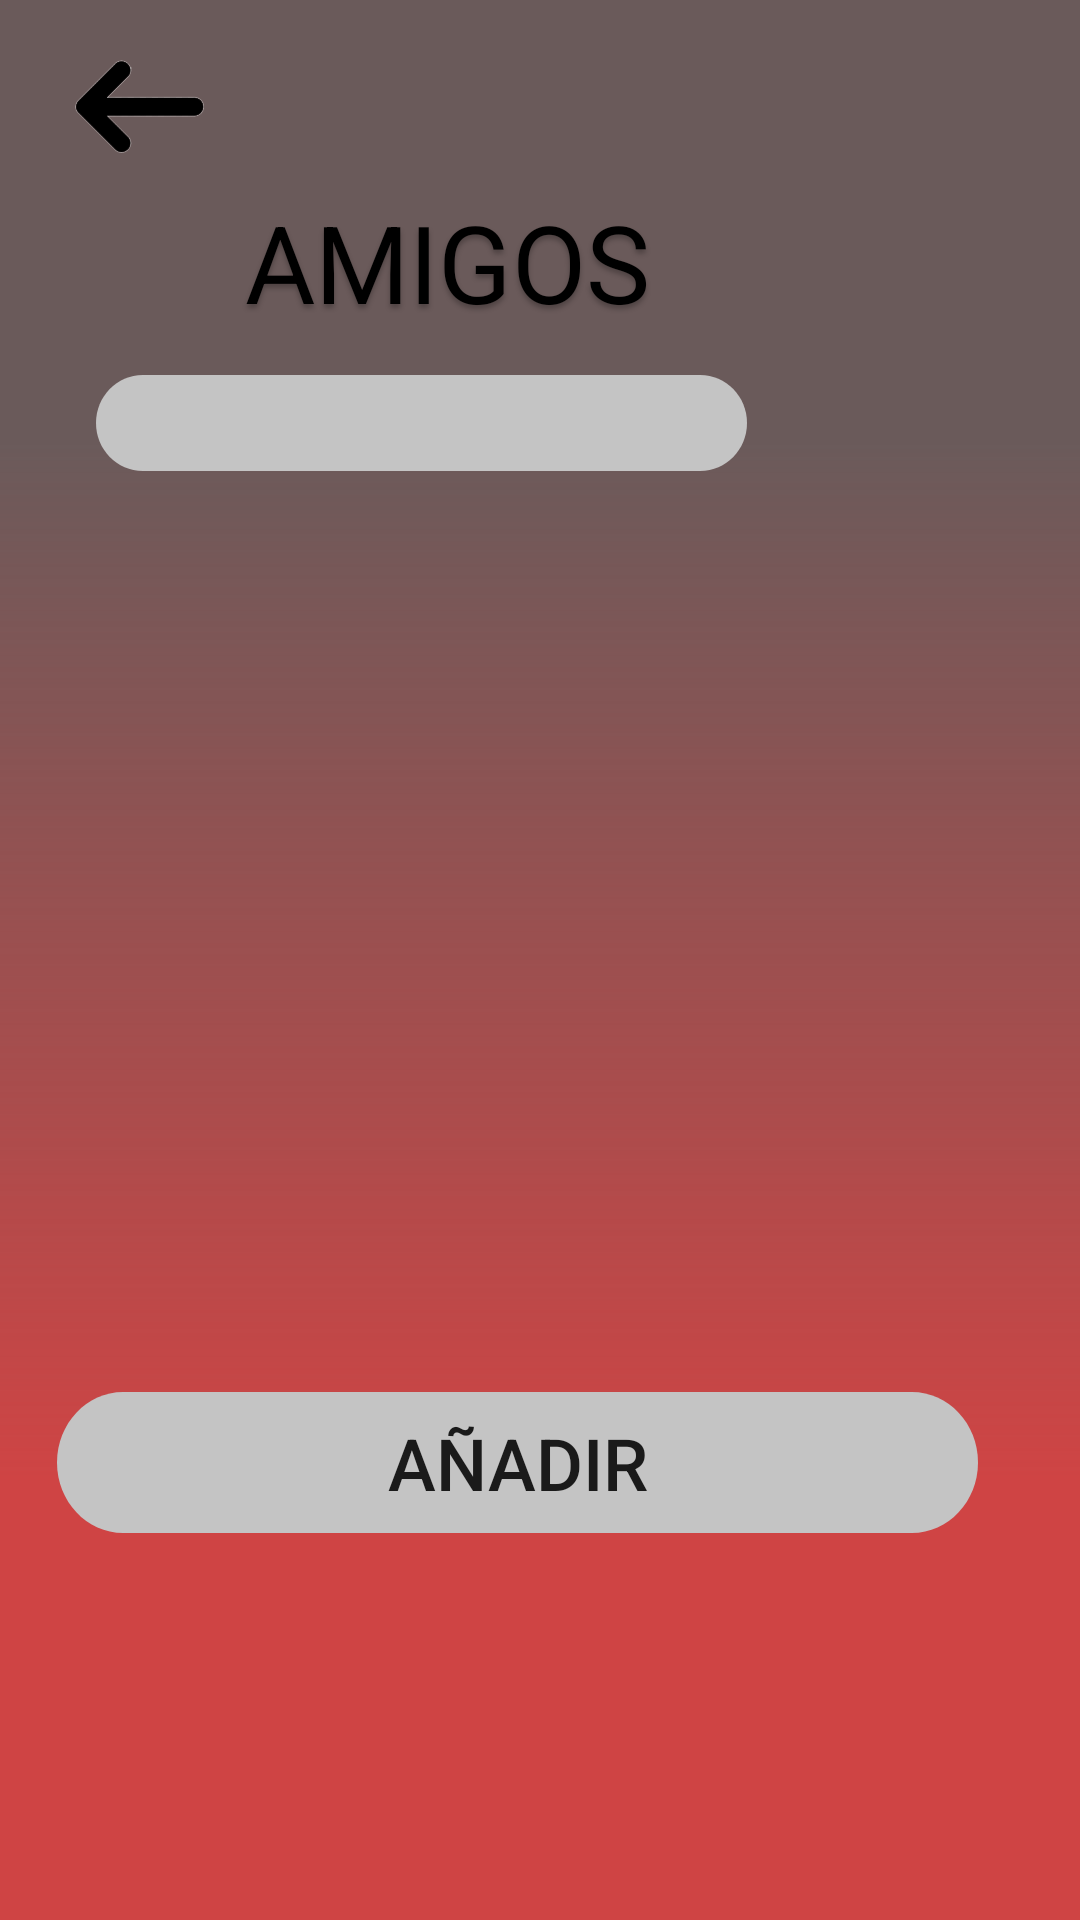

Where icons sit on this 1080 x 1920 app screen, as (x1, y1, x2, y2):
atras: (75, 60, 204, 153)
